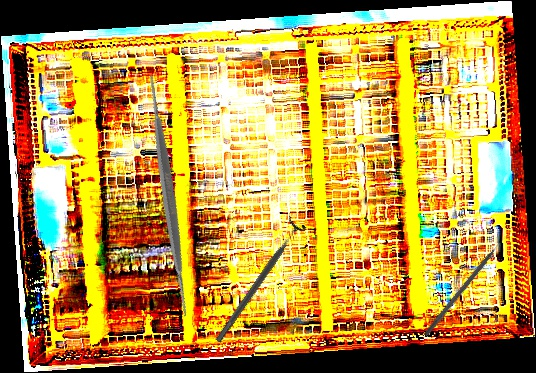Fixation Ring: (208, 215, 308, 348)
Hook Surgical: (423, 233, 509, 338)
Spatula Surgical: (37, 66, 299, 326)
